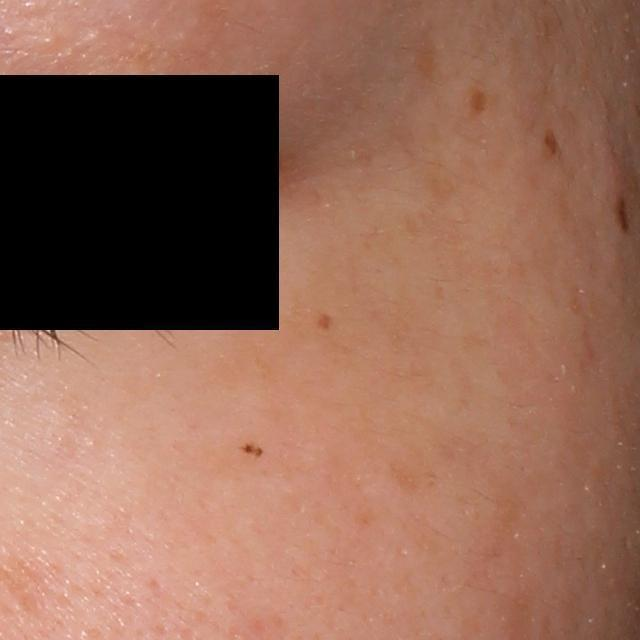melasma: (411, 30, 438, 77), (461, 83, 491, 122), (541, 127, 559, 156)
nevus: (612, 191, 635, 237)
